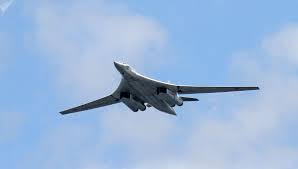maybay_dansu: (60, 50, 267, 119)
